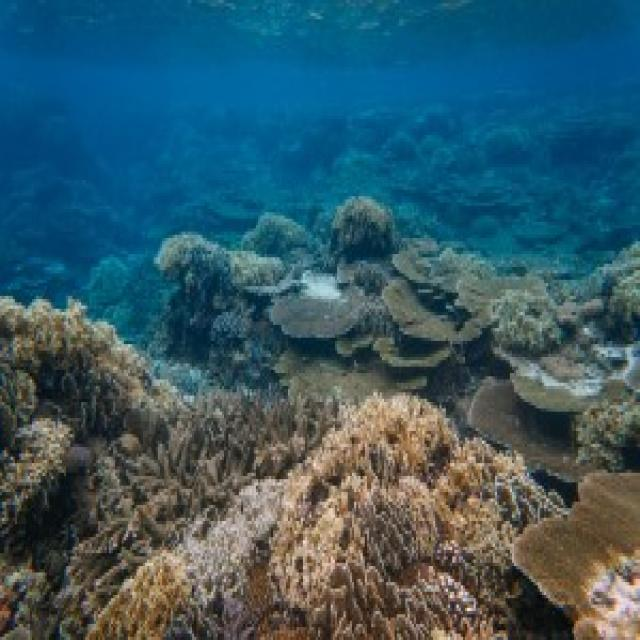Healthy: (86, 397, 562, 638), (63, 393, 338, 615), (1, 297, 148, 448), (515, 474, 639, 638), (496, 242, 639, 355), (385, 249, 543, 342), (468, 377, 577, 480), (155, 233, 285, 316), (1, 419, 74, 538), (502, 352, 609, 409), (291, 361, 419, 400), (577, 390, 639, 467), (332, 197, 394, 262), (270, 297, 359, 339), (244, 213, 308, 255)
